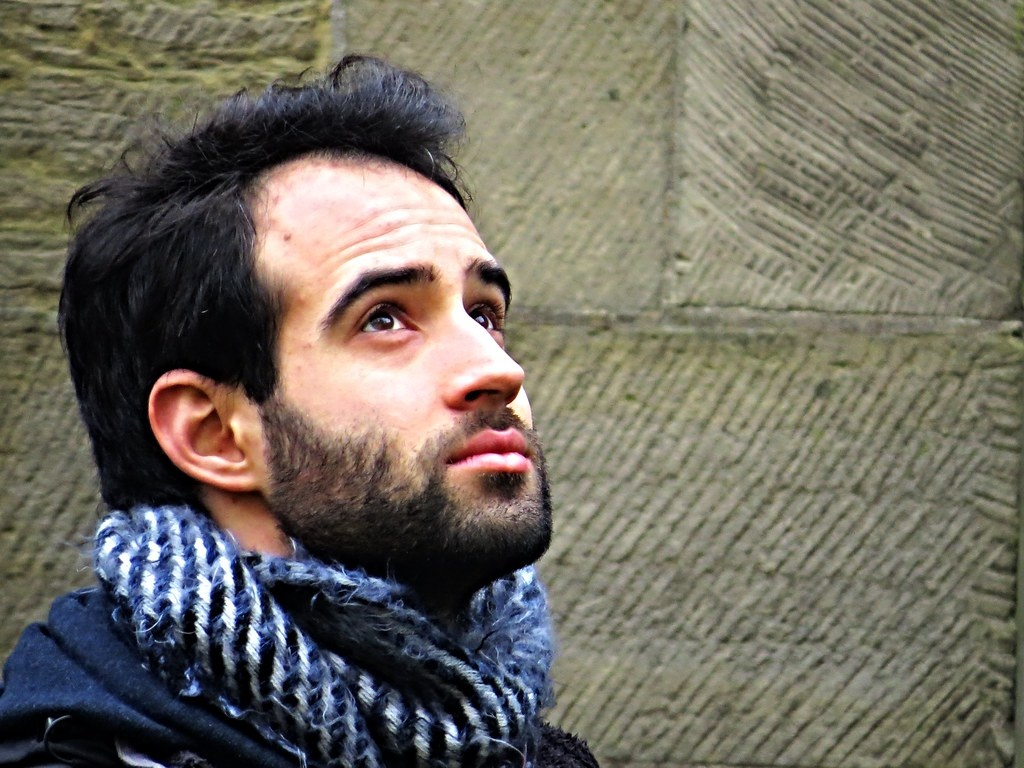without_mask: (62, 137, 603, 607)
